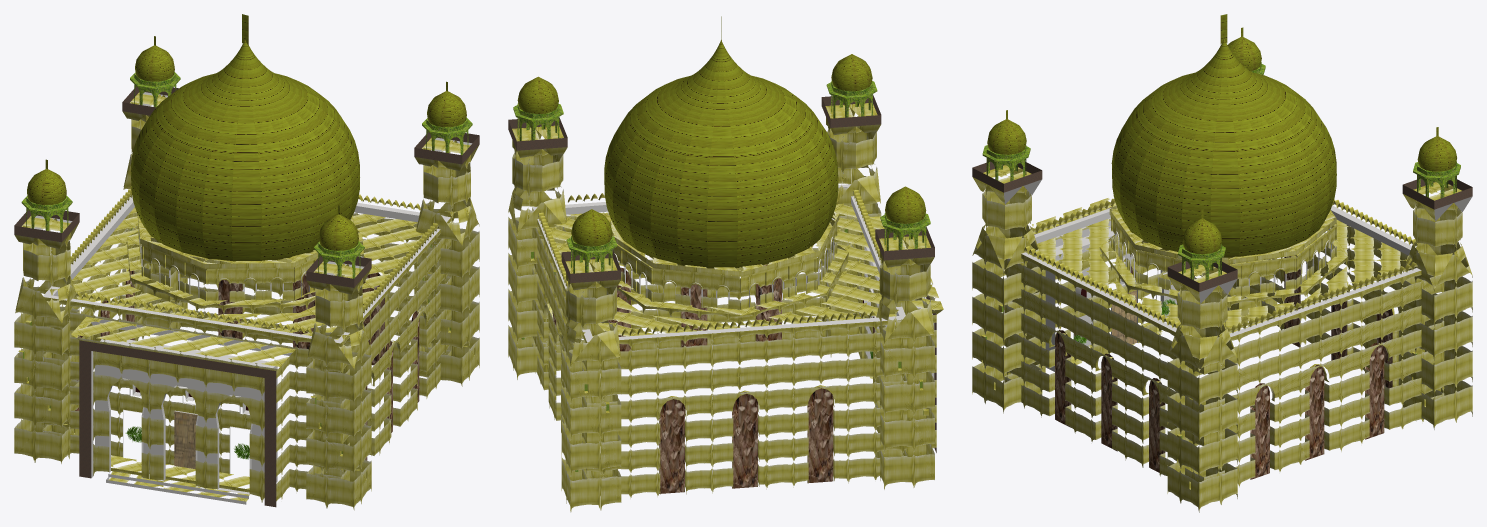
File: Rastullah-Bethaus.dae
3 views of the same model, side by side, from view 1: azimuth 30°, elevation 25°; view 2: azimuth 150°, elevation 25°; view 3: azimuth 270°, elevation 25° (orthographic). The views are drawn at different scales.
Visible parts, largest first — view 1: Model, Turm (×4), Zwiebelturmdach__Segment (×13), small_coupol (×4), Kuppelwand (×2); view 2: Model, Turm (×4), Zwiebelturmdach__Segment (×13), small_coupol (×4), Kuppelwand (×4); view 3: Model, Turm (×4), Zwiebelturmdach__Segment (×13), small_coupol (×4), Kuppelwand (×4).
Boxes of the visible parts, x1,y1,x2,y2 form: Model: (42,14,451,507); Turm (×4): (14,87,479,510); Zwiebelturmdach__Segment (×13): (130,40,359,261); small_coupol (×4): (21,36,472,278); Kuppelwand (×2): (141,244,294,302); Model: (532,16,943,498); Turm (×4): (508,95,934,512); Zwiebelturmdach__Segment (×13): (604,40,838,268); small_coupol (×4): (513,54,930,273); Kuppelwand (×4): (613,221,837,310); Model: (1004,14,1444,487); Turm (×4): (972,161,1472,512); Zwiebelturmdach__Segment (×13): (1111,39,1336,257); small_coupol (×4): (982,27,1460,280); Kuppelwand (×4): (1111,216,1337,296).
Bounding box in the file's own units: 44.52 × 44.53 × 38.48.
